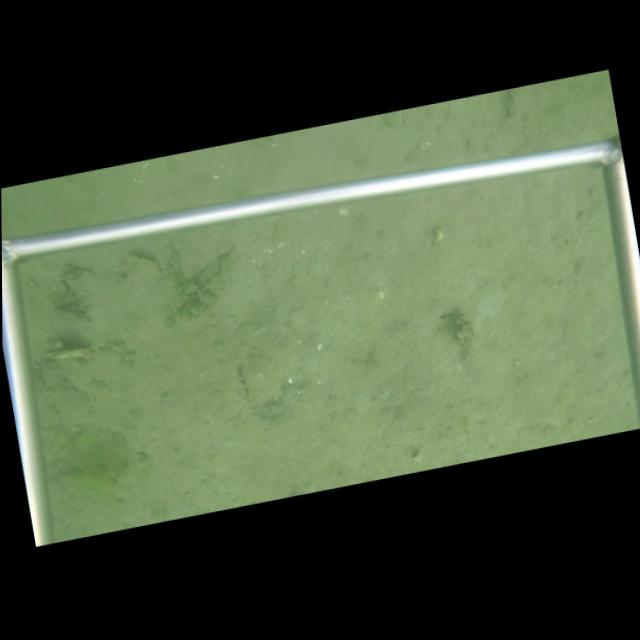Oyster-Indeterminate: (239, 344, 285, 405), (118, 252, 165, 302)
